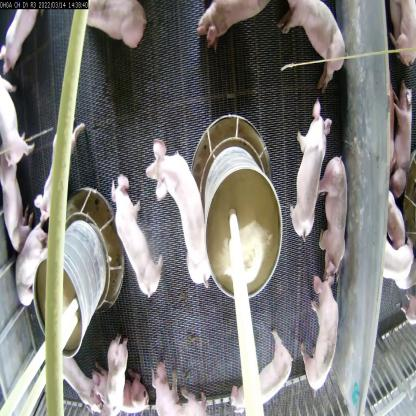Pig: (139, 131, 216, 289), (283, 95, 337, 242), (284, 0, 359, 96), (38, 111, 96, 220), (111, 184, 166, 292), (316, 141, 355, 289), (229, 333, 291, 415), (194, 0, 270, 60), (304, 264, 339, 386), (151, 365, 227, 415), (86, 0, 149, 45), (0, 76, 31, 166), (6, 146, 30, 262), (0, 0, 37, 75), (14, 208, 44, 298), (100, 326, 126, 416), (96, 375, 147, 407)
